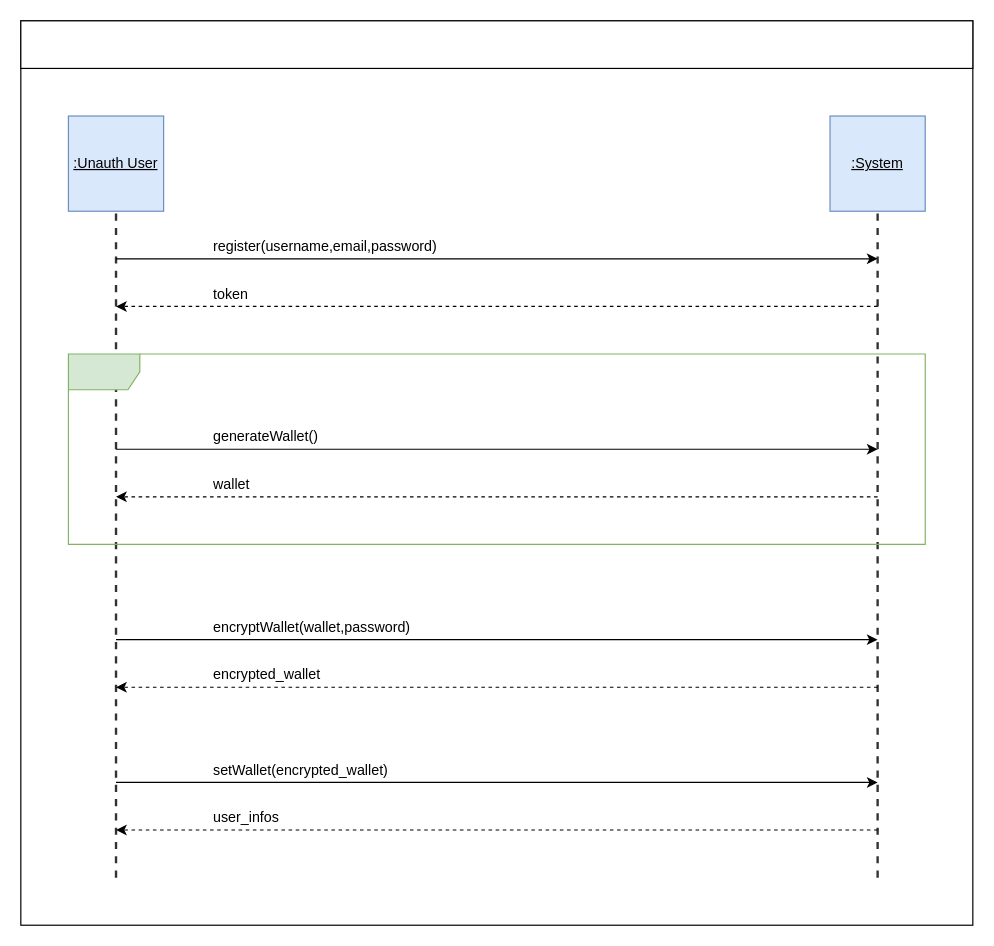
This 994x946 diagram has some shape labels left out. The centre of each missing label's shape, as x and y in pixels:
"Figure X. Create a T721 Account Scenario's SSD" belongs at (x=496, y=44).
"loop" belongs at (x=496, y=448).
